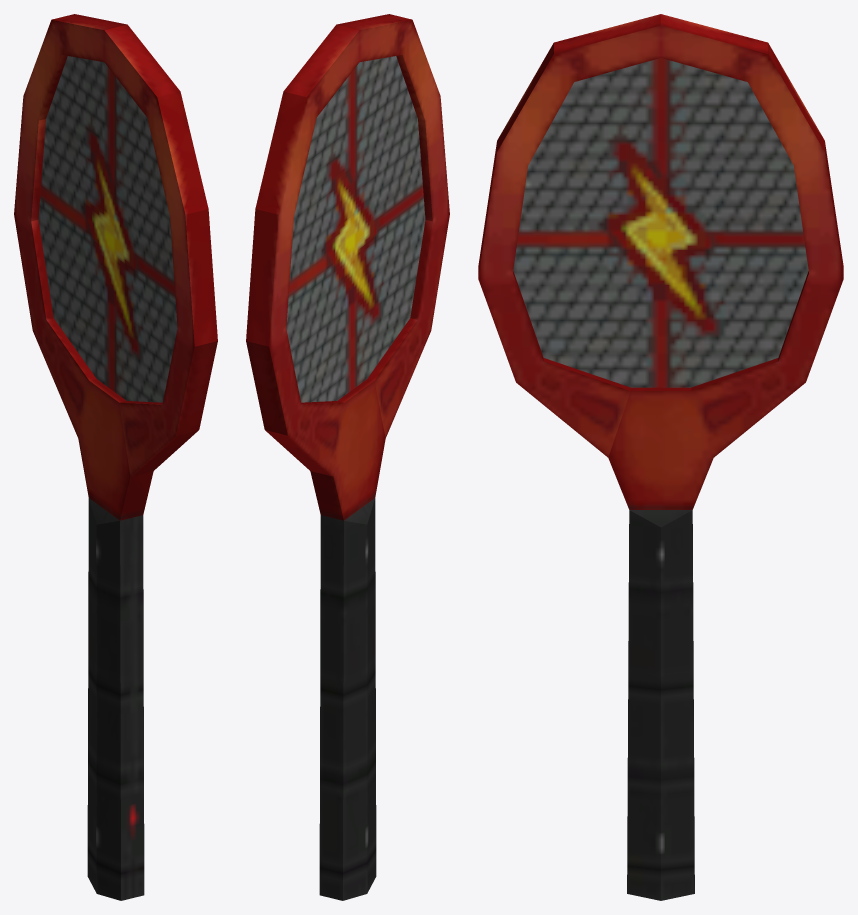
File: Cat_bugZapper.obj
The picture shows the model from 3 angles, left to right: view 1: azimuth 30°, elevation 25°; view 2: azimuth 150°, elevation 25°; view 3: azimuth 270°, elevation 25°; orthographic projection.
Parts seen in each view (by area): view 1: Cat_bugZapper_tri; view 2: Cat_bugZapper_tri; view 3: Cat_bugZapper_tri.
Boxes of the visible parts, x1=… form: Cat_bugZapper_tri: x1=14, y1=14, x2=217, y2=900; Cat_bugZapper_tri: x1=246, y1=14, x2=449, y2=900; Cat_bugZapper_tri: x1=478, y1=14, x2=843, y2=900.
Size of the model in its own units: 0.0334 by 0.7172 by 0.2726.
Materials: 1 (1 with a texture image).
